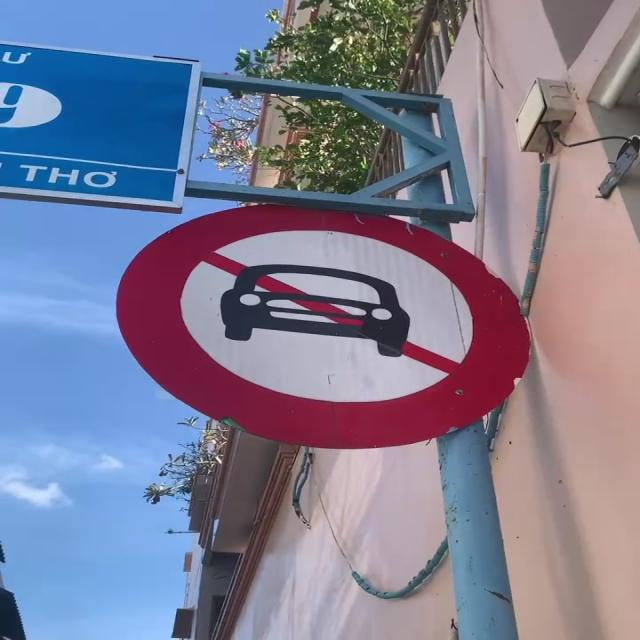Cam_O_To: (118, 199, 537, 453)
